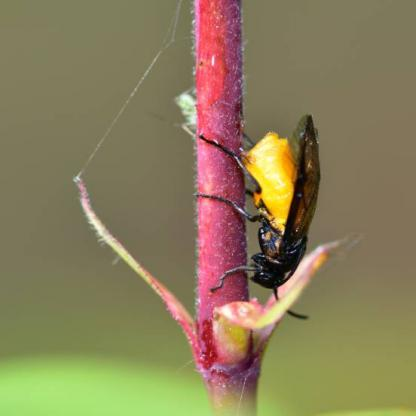sawfly: (185, 106, 319, 336)
